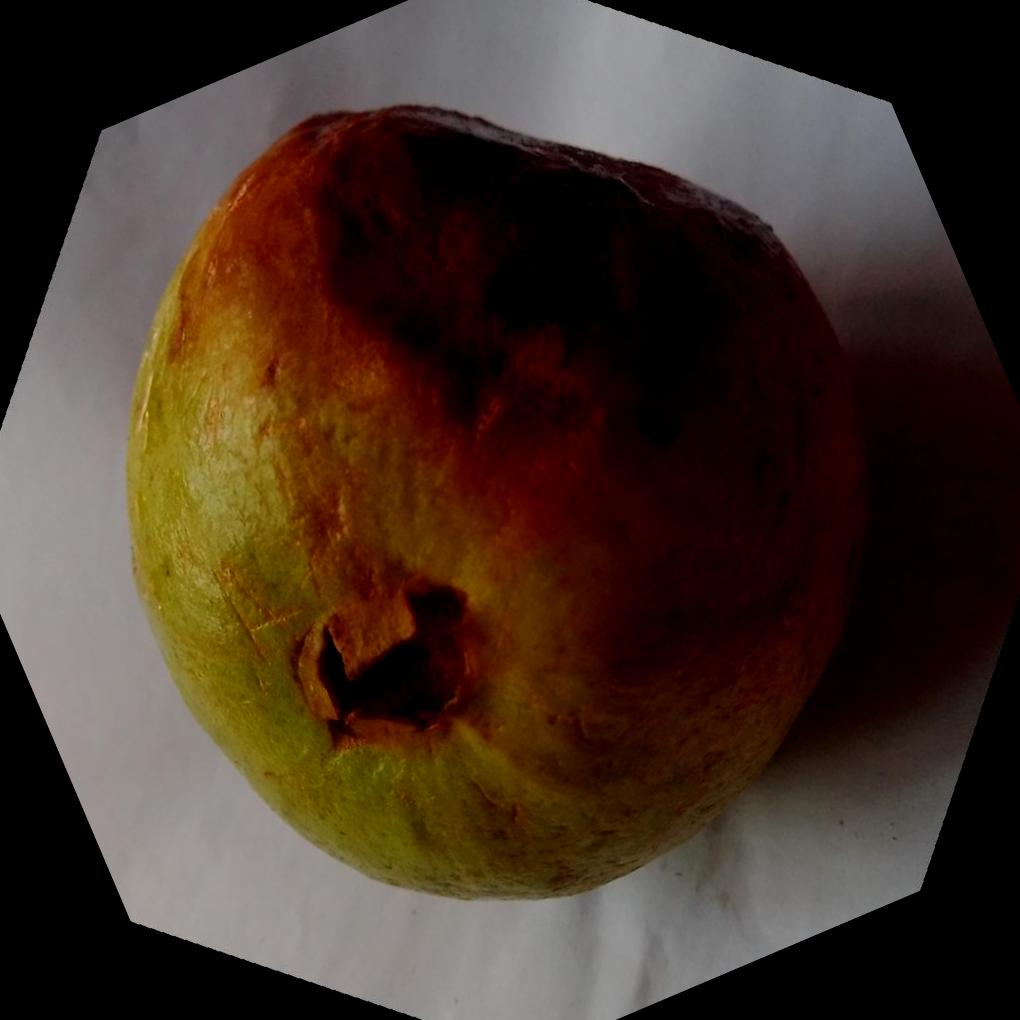FreshOrange: (123, 104, 877, 905)
